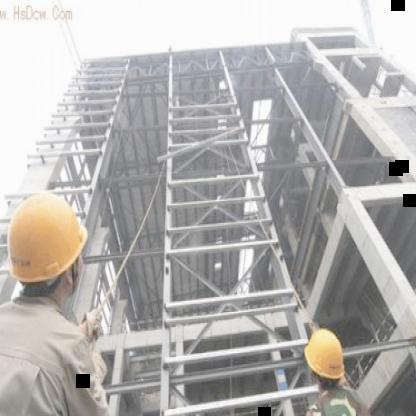helmet: (0, 178, 97, 310), (302, 323, 349, 393)
